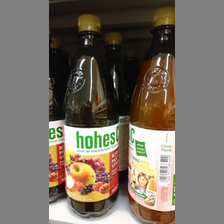juice: (65, 13, 119, 218), (127, 7, 174, 223)
